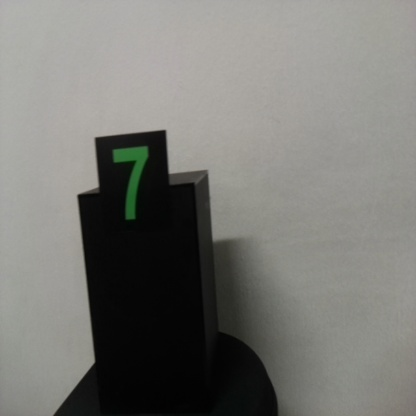id_7: (94, 137, 171, 237)
